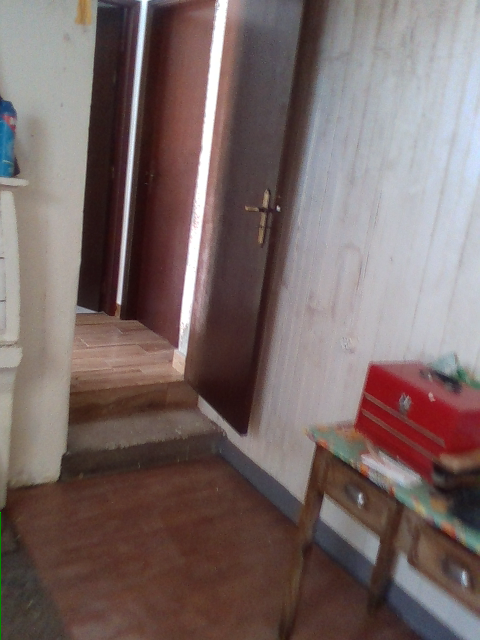open: (185, 0, 314, 436)
